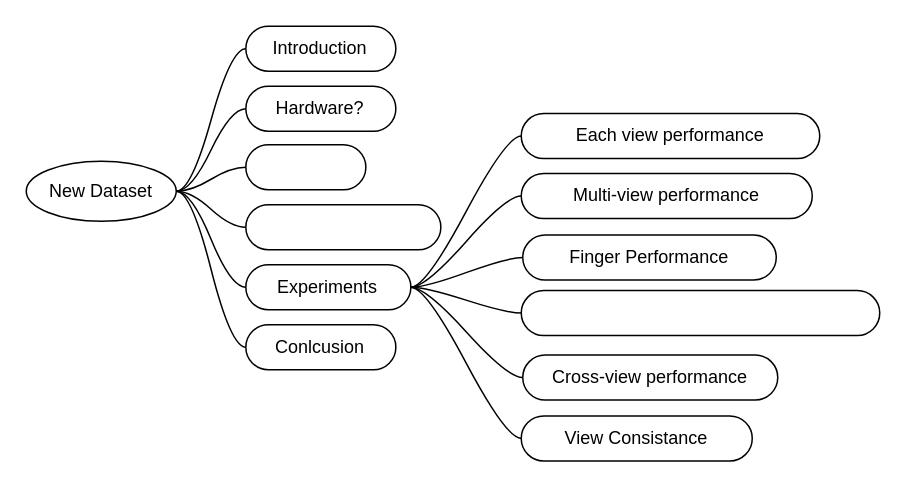
Some shapes in this 906 by 488 pixel diagram are drawn without their labels. The shapes that lost their labels are listed below. From the top down, each one's centre as x and y in pixels, then its label:
At (x=305, y=166): "Dataset".
At (x=342, y=226): "ROI Extraction?".
At (x=700, y=312): "Male and Female Performance".
